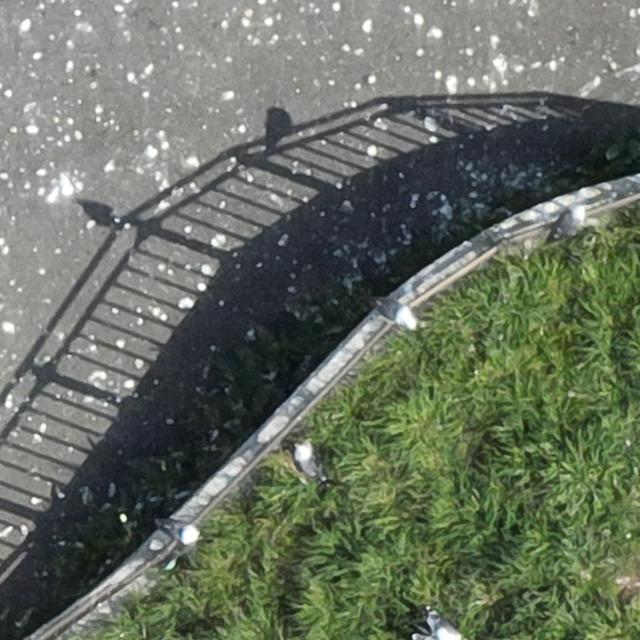umineko: (368, 293, 419, 329), (153, 514, 202, 543), (296, 449, 321, 480), (557, 210, 584, 236), (433, 620, 463, 640)
